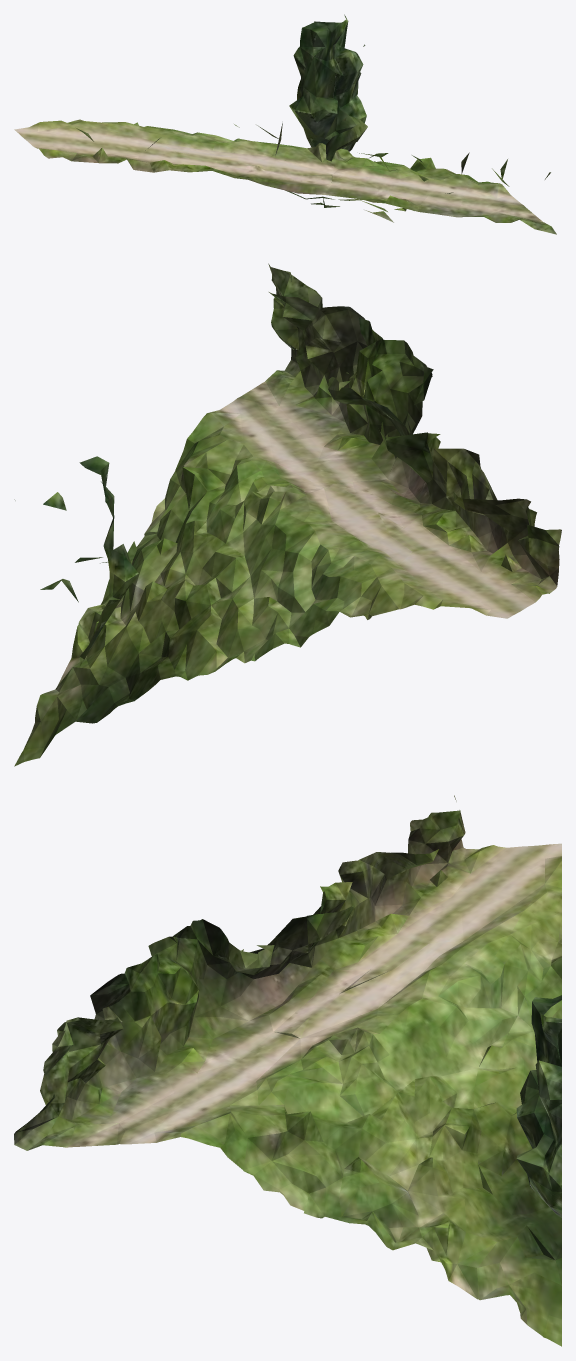
3 renders of one model, top to bottom at view 1: azimuth 30°, elevation 25°; view 2: azimuth 150°, elevation 25°; view 3: azimuth 270°, elevation 25°, orthographic. The views are drawn at different scales.
Bounding box in the file's own units: 26.11 × 16.05 × 25.41.
3 materials, 3 textured.
